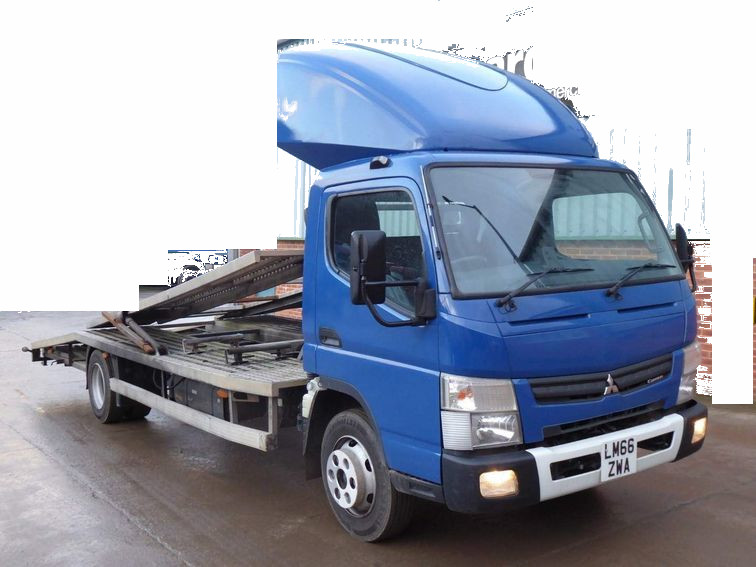Semi: (21, 41, 711, 540)
